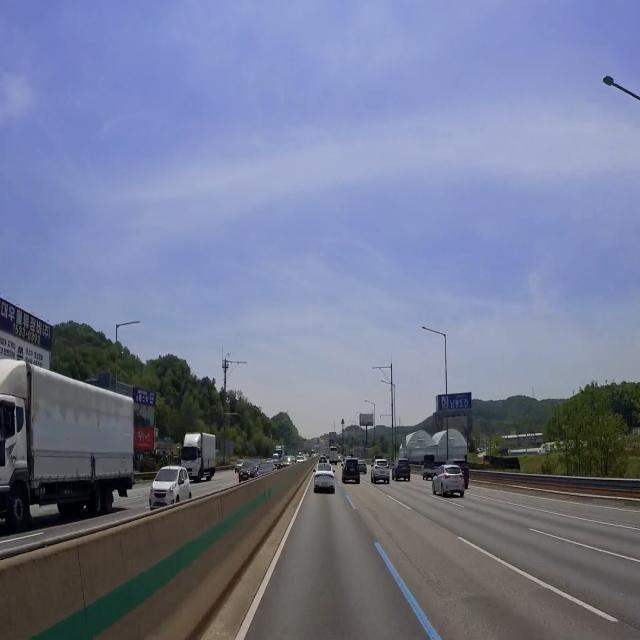car: (153, 490, 168, 507), (316, 477, 333, 492), (346, 462, 358, 479), (447, 480, 465, 491), (398, 462, 410, 477), (379, 471, 387, 480)
